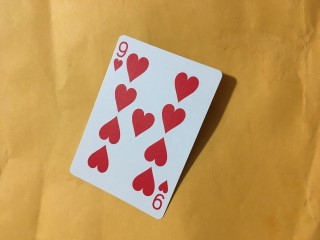NineOfHearts: (69, 35, 222, 219)
